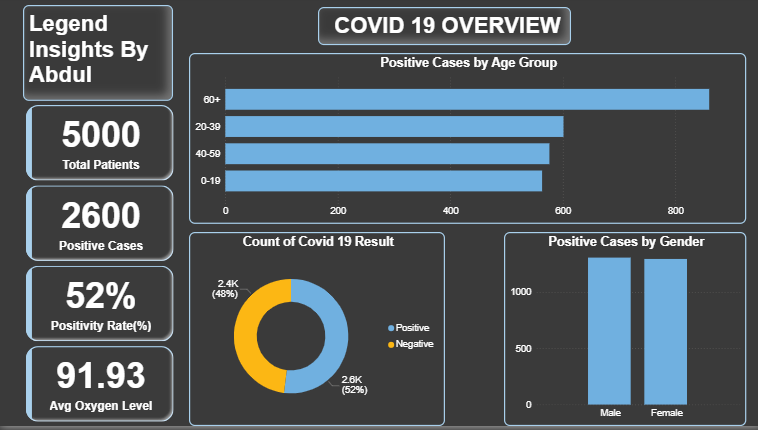

Layout of this report page (visuals, bound fields, positions):
{"tool":"powerbi","page":{"name":"Page 1","canvas":[1280,720],"ordinal":0},"visuals":[{"type":"textbox","box":[38.6,13.4,252,161.3],"z":0},{"type":"cardVisual","fields":{"Data":["covid19_patient_symptoms_diagno.Total Patients","covid19_patient_symptoms_diagno.Positive Cases","covid19_patient_symptoms_diagno.Positivity Rate","covid19_patient_symptoms_diagno.Avg Oxygen Level"]},"box":[38.6,176.4,258.7,544.3],"z":1000},{"type":"donutChart","title":"Count of Covid 19 Result","fields":{"Category":["covid19_patient_symptoms_diagno.covid_result"],"Y":["CountNonNull(covid19_patient_symptoms_diagno.covid_result)"]},"box":[317.5,394.8,430,325.9],"z":2000},{"type":"clusteredBarChart","fields":{"Y":["covid19_patient_symptoms_diagno.Positive Cases"],"Category":["covid19_patient_symptoms_diagno.Age Group"]},"box":[317.5,94.1,935.6,287.2],"z":3000},{"type":"clusteredColumnChart","title":"Positive Cases by Gender","fields":{"Y":["covid19_patient_symptoms_diagno.Positive Cases"],"Category":["covid19_patient_symptoms_diagno.gender"]},"box":[846.6,394.8,406.5,325.9],"z":4000},{"type":"textbox","box":[534.2,16.8,425,63.8],"z":5000}]}

Visuals, with their boxes in screenshot pixels (x1, y1, x2, y2), scaled from the page's 1280x720 canvas onto the 758x430 screenshot:
textbox: [left=23, top=8, right=172, bottom=104]
cardVisual - covid19_patient_symptoms_diagno.Total Patients x covid19_patient_symptoms_diagno.Positive Cases: [left=23, top=105, right=176, bottom=429]
"Count of Covid 19 Result" donutChart: [left=188, top=236, right=443, bottom=429]
clusteredBarChart - covid19_patient_symptoms_diagno.Positive Cases x covid19_patient_symptoms_diagno.Age Group: [left=188, top=56, right=742, bottom=228]
"Positive Cases by Gender" clusteredColumnChart: [left=501, top=236, right=742, bottom=429]
textbox: [left=316, top=10, right=568, bottom=48]
